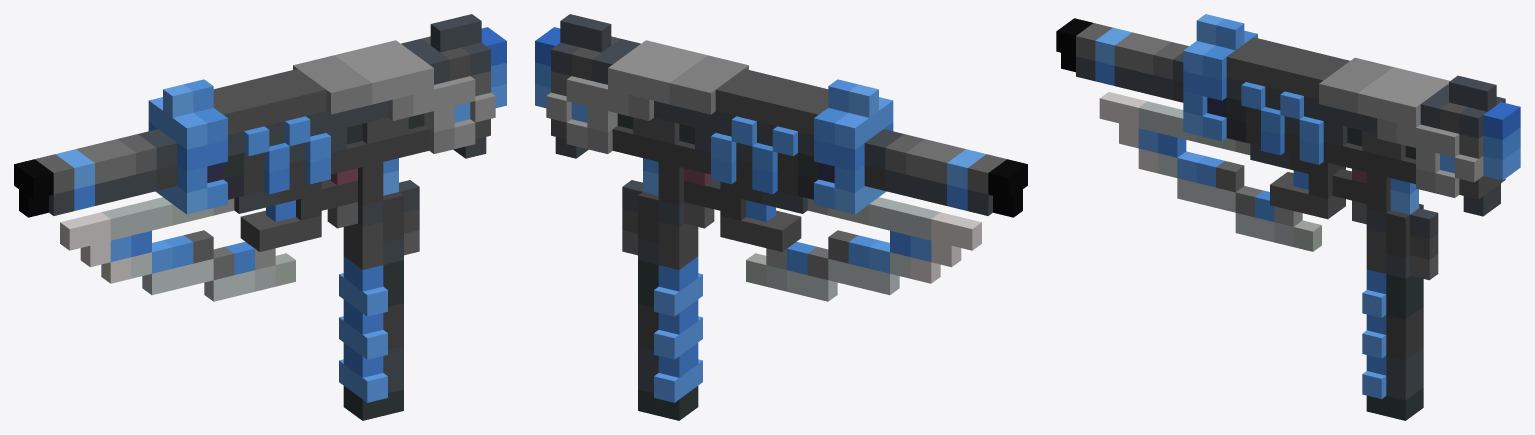
The model's file is SMG_1G9_Waratel.obj.
The picture shows the model from 3 angles, left to right: view 1: azimuth 30°, elevation 25°; view 2: azimuth 150°, elevation 25°; view 3: azimuth 330°, elevation 25°; orthographic projection. The views are drawn at different scales.
Bounding box in the file's own units: 23 × 17 × 3.2.
